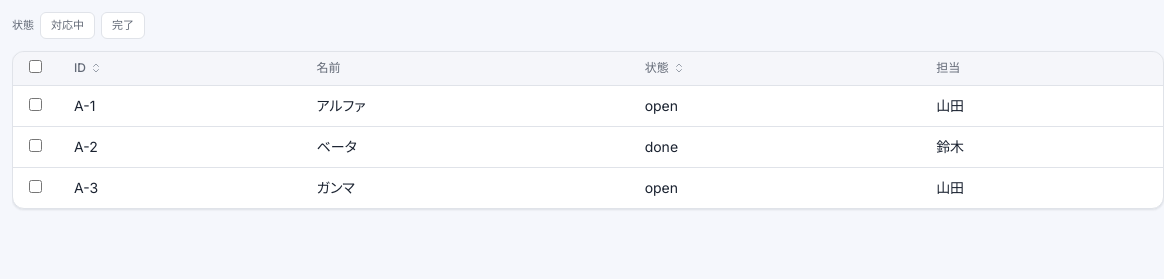
Test: DataTable (Phase 3) › selection: 全選択で一括バー + 件数表示
The width and height of the screenshot is (1164, 279).
Click the checkbox named "表示中をすべて選択" at coordinates (36, 66), box [29,60,42,72]
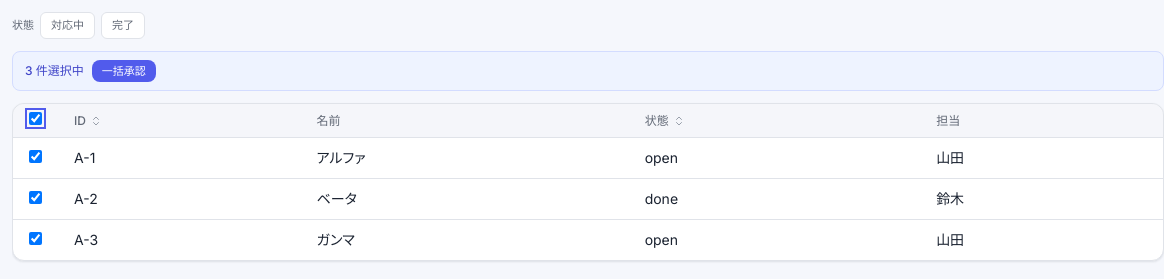
Expected: the text "3 件選択中" is shown, [25,63,84,79]
Expected: the button "一括承認" is shown, [92,60,156,82]
